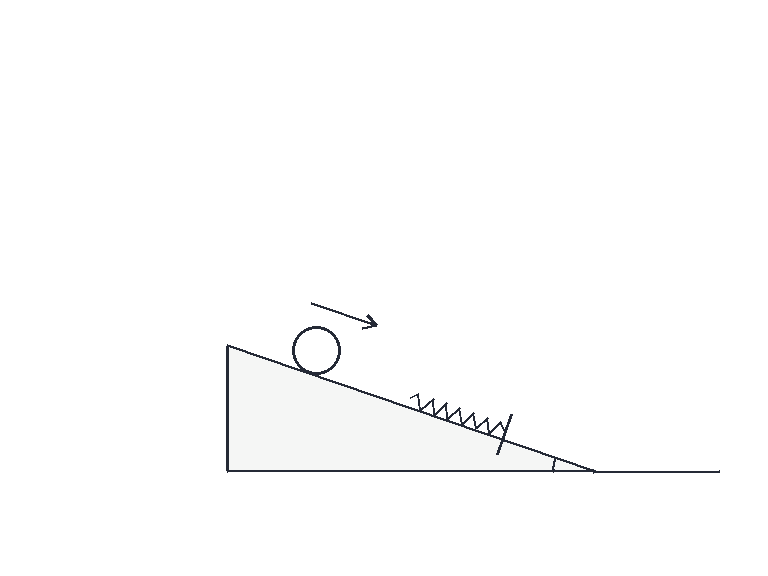ball: (290, 324, 342, 376)
ramp: (225, 343, 595, 473)
spring: (407, 392, 506, 435)
